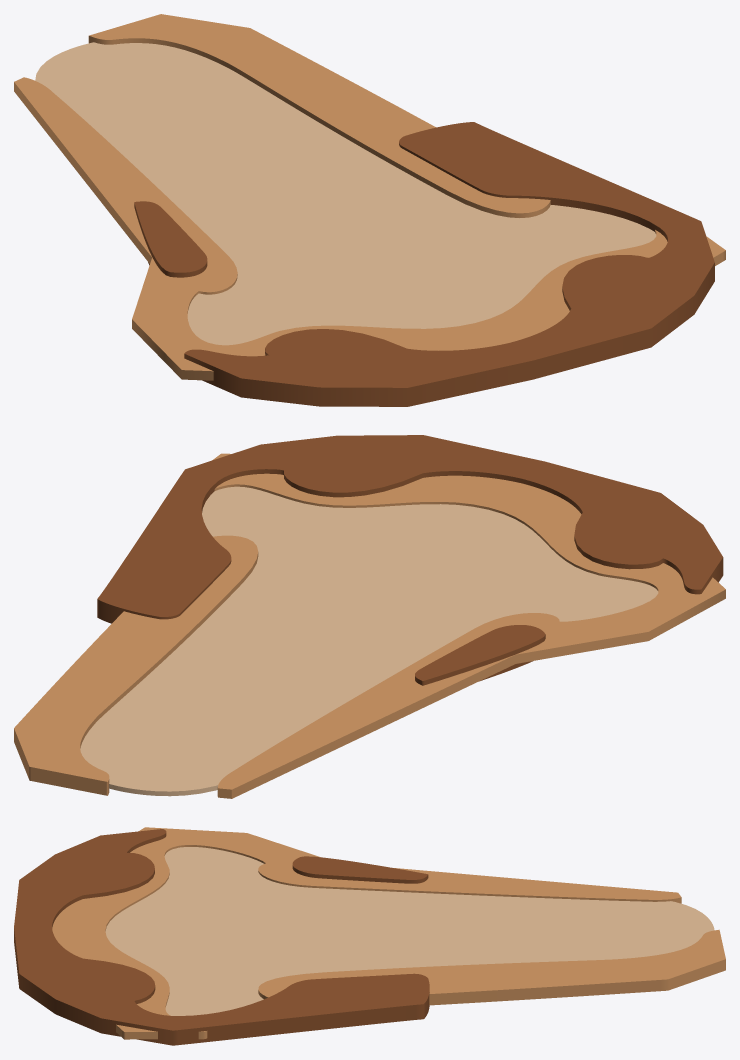
The model's file is emoji_u1f443_1f3fc.glb.
3 views of the same model, one above another, from view 1: azimuth 30°, elevation 25°; view 2: azimuth 150°, elevation 25°; view 3: azimuth 270°, elevation 25° (orthographic). The views are drawn at different scales.
Parts seen in each view (by area): view 1: emoji_u1f443_1f3fc; view 2: emoji_u1f443_1f3fc; view 3: emoji_u1f443_1f3fc.
Part boxes in pixels (x1=…): emoji_u1f443_1f3fc: x1=14, y1=14, x2=725, y2=406; emoji_u1f443_1f3fc: x1=14, y1=435, x2=725, y2=798; emoji_u1f443_1f3fc: x1=14, y1=827, x2=725, y2=1045.
Bounding box in the file's own units: 0.0236 × 0.0008 × 0.0343.
